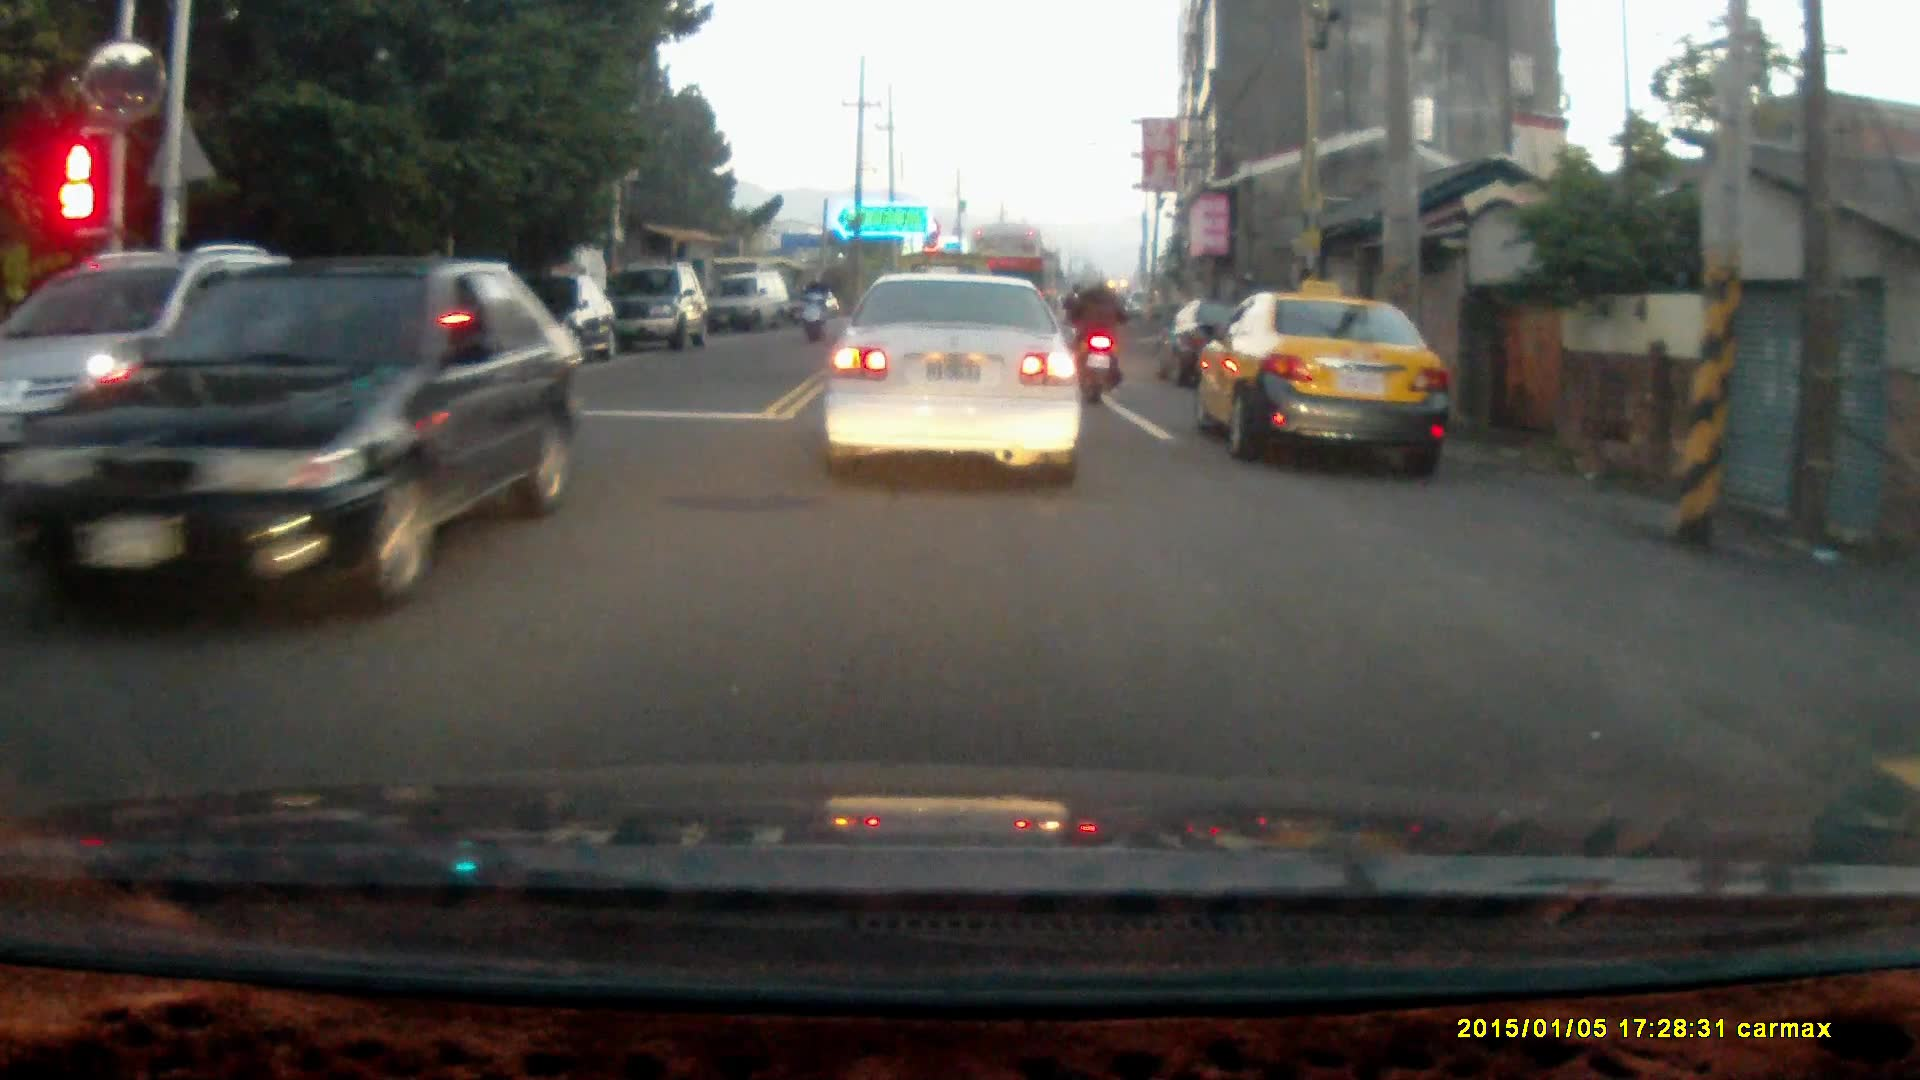rider: (1065, 262, 1127, 402), (794, 267, 829, 342)
vehicle: (29, 263, 556, 633), (820, 276, 1092, 494), (1202, 293, 1454, 470), (609, 260, 707, 354), (714, 274, 794, 331)
